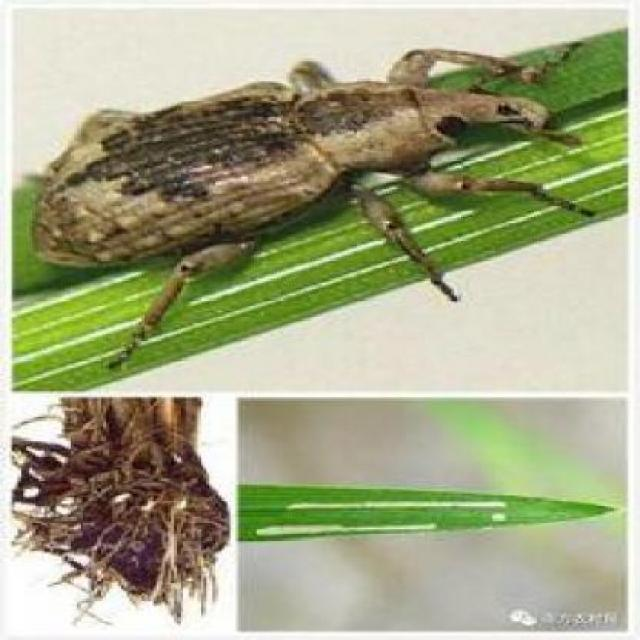rice-bug: (28, 37, 594, 280)
